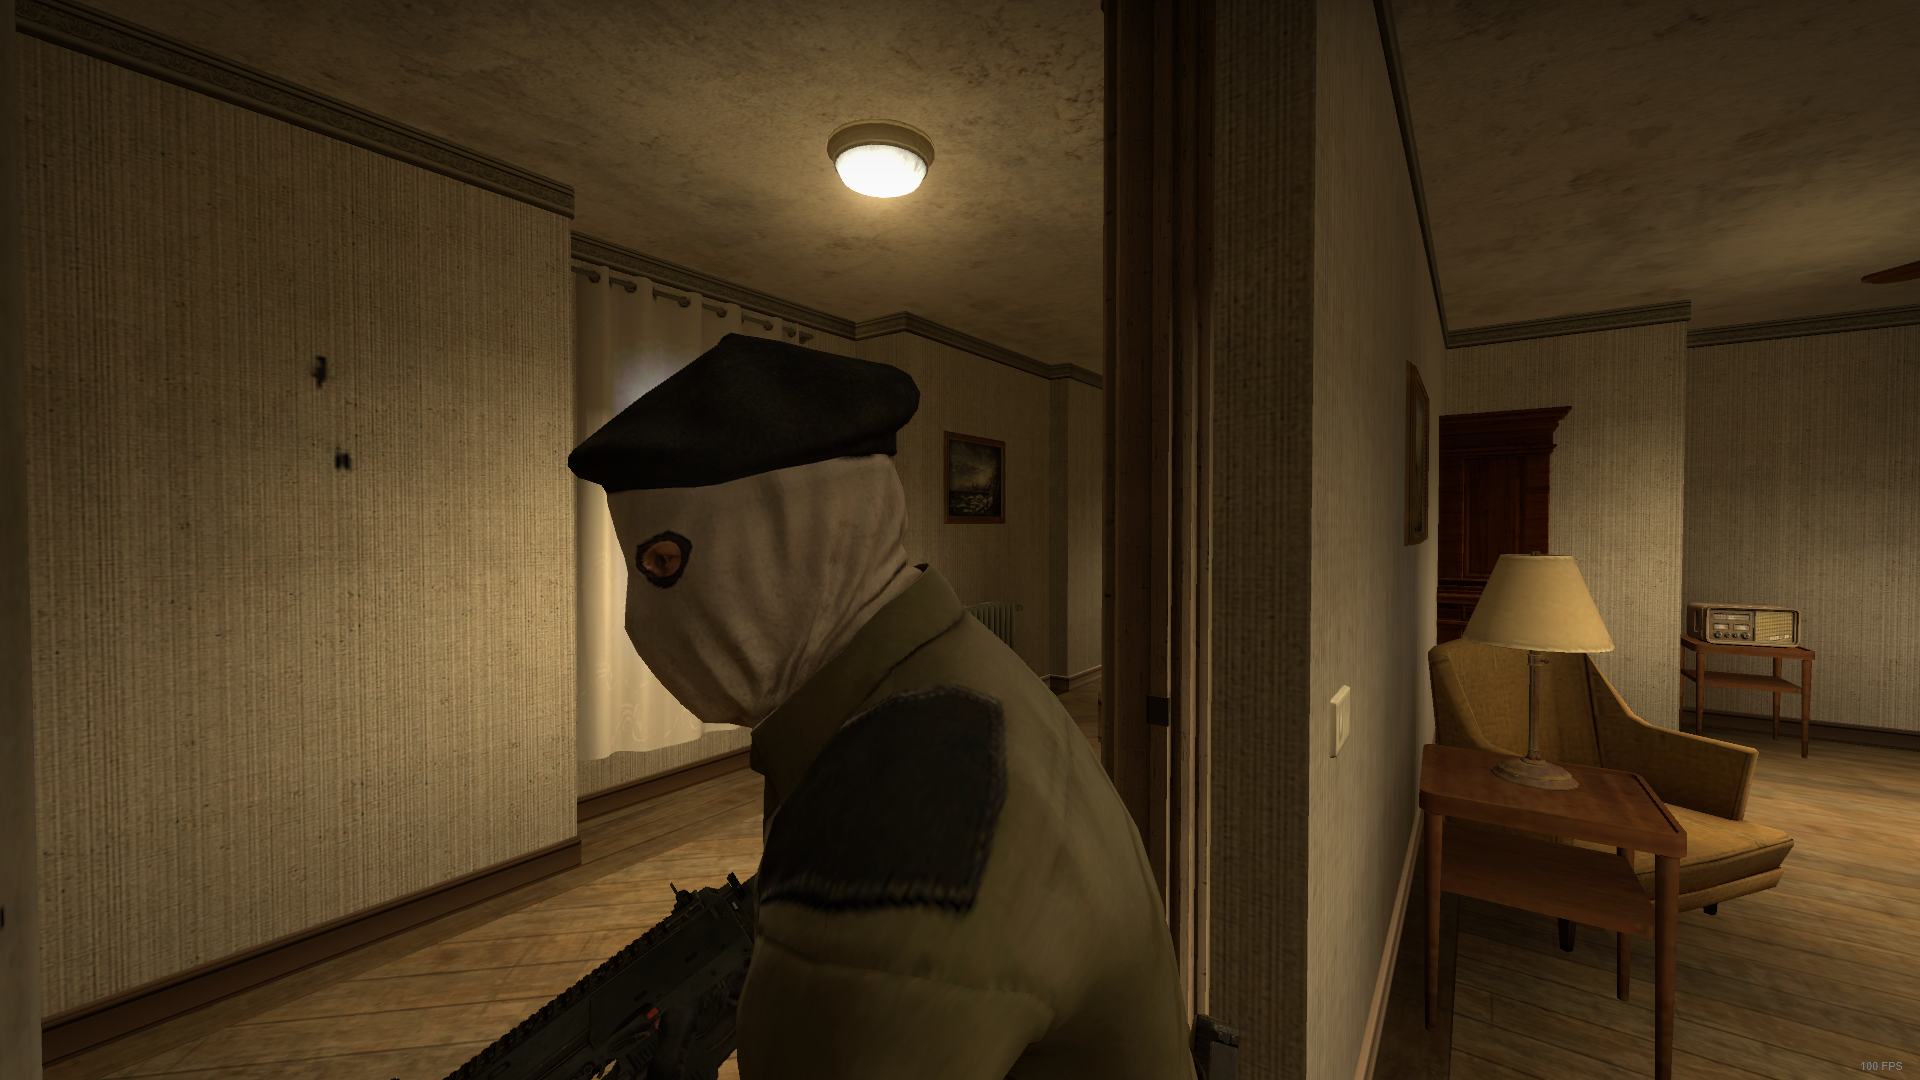t: (560, 328, 1200, 1080)
